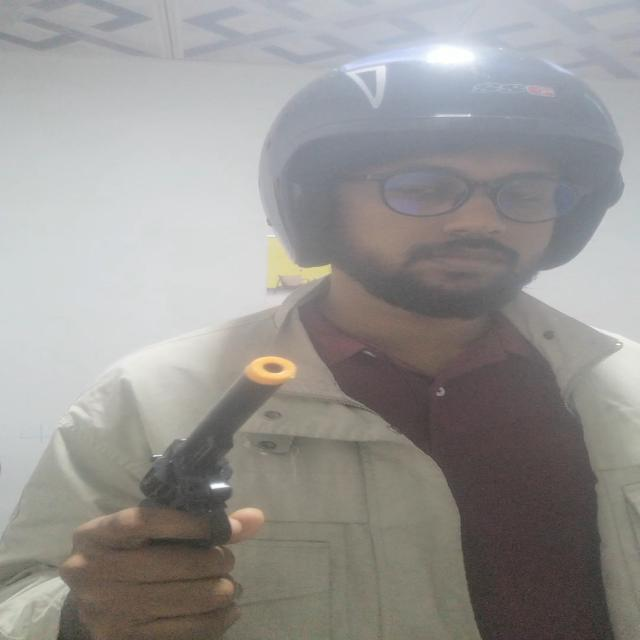Gun_Holder: (52, 355, 354, 640)
Helmet_Wearer: (216, 44, 640, 309)
Jacket_Wearer: (4, 277, 639, 640)
Person: (0, 35, 640, 640)
